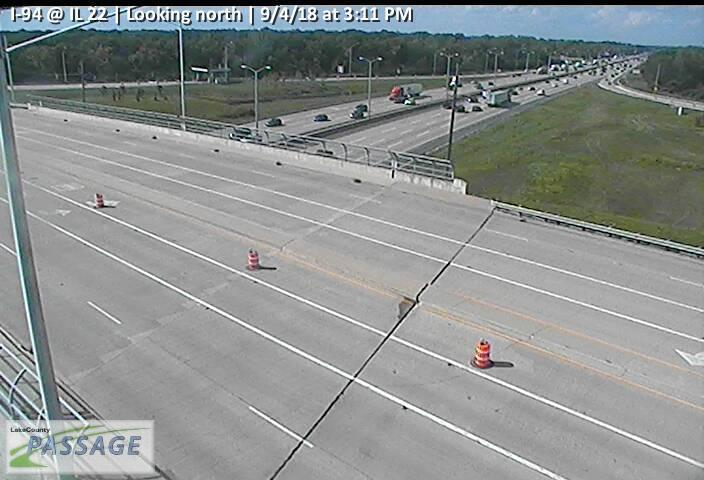Sedan: (264, 117, 282, 128), (312, 113, 328, 122), (350, 109, 363, 118), (353, 104, 367, 111)
Truck: (389, 83, 421, 101)
